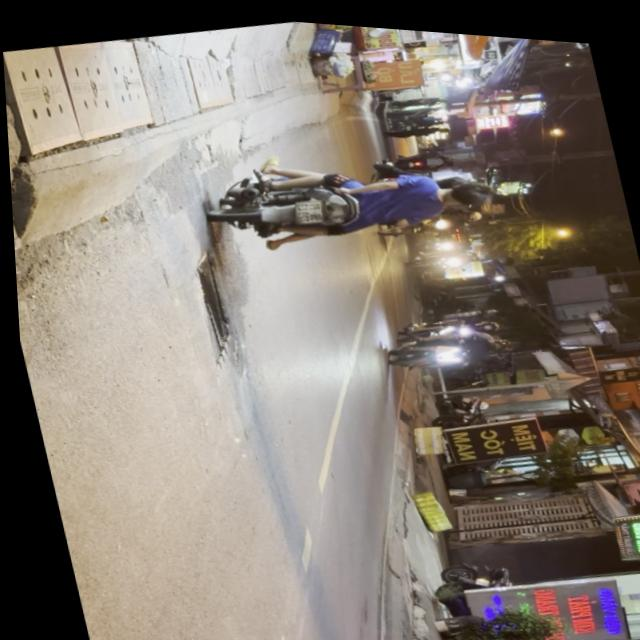licenseplate: (196, 120, 502, 272)
motorcyclist: (438, 172, 492, 209)
nohelmet: (291, 194, 321, 221)
